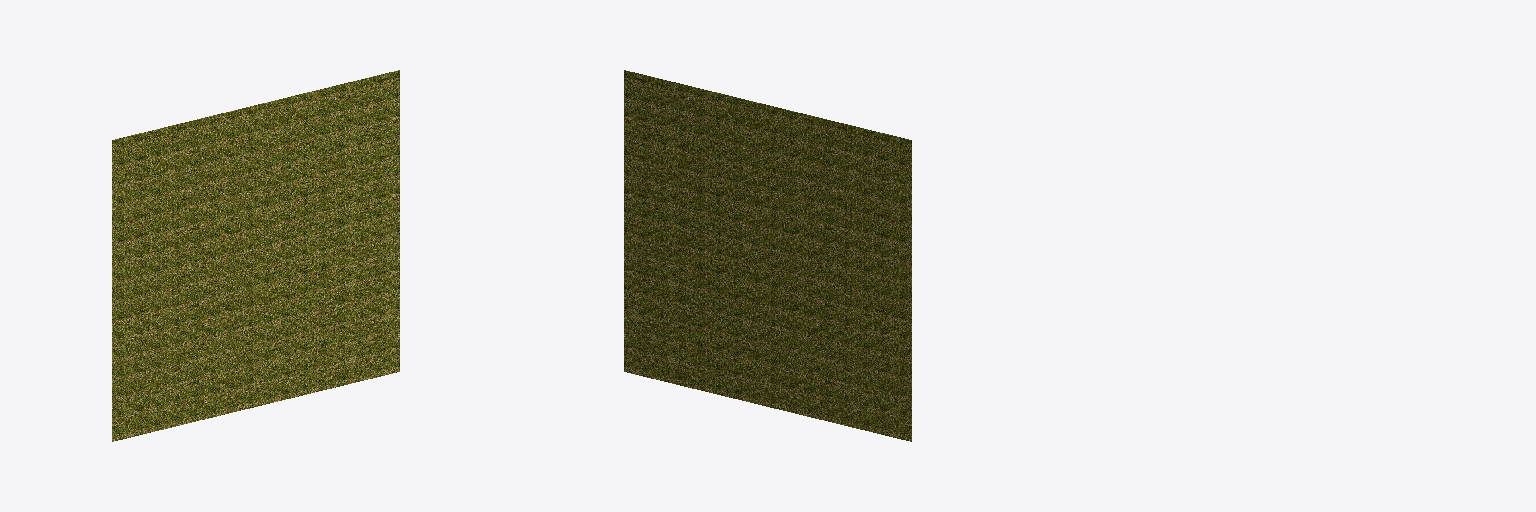
The picture shows the model from 3 angles: view 1: azimuth 30°, elevation 25°; view 2: azimuth 150°, elevation 25°; view 3: azimuth 270°, elevation 25°; orthographic projection.
Bounding box in the file's own units: 84866 × 84866 × 0.
Materials: 1 (1 with a texture image).